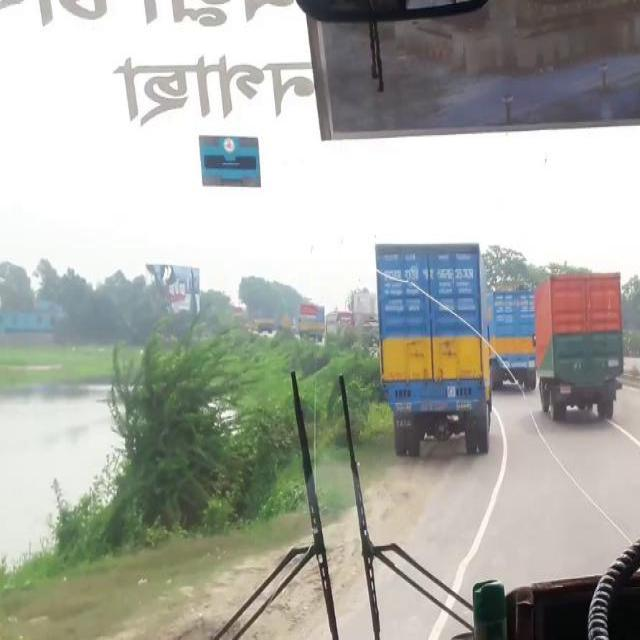18: (372, 241, 491, 455), (532, 270, 624, 415), (488, 289, 536, 385), (298, 314, 324, 339)
Truck: (326, 312, 354, 339)
